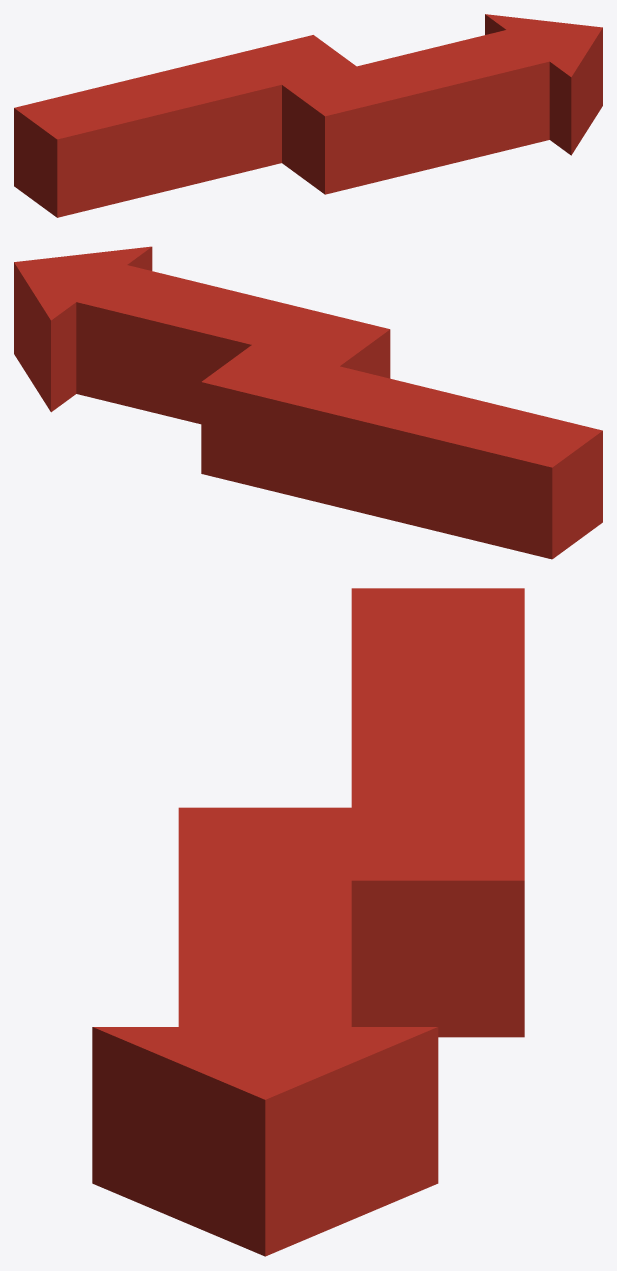
File: Arrow Mark.fbx
3 views of the same model, one above another, from view 1: azimuth 30°, elevation 25°; view 2: azimuth 150°, elevation 25°; view 3: azimuth 270°, elevation 25° (orthographic). The views are drawn at different scales.
Parts seen in each view (by area): view 1: Body1; view 2: Body1; view 3: Body1.
Part boxes in pixels (box(x1,y1,x2,y2)): Body1: box(14, 14, 602, 217); Body1: box(14, 246, 602, 559); Body1: box(92, 588, 524, 1256).
Bounding box in the file's own units: 35 × 5 × 12.5.
